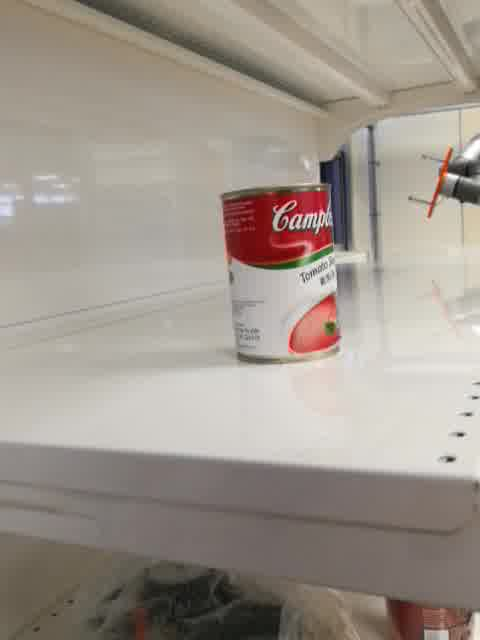tomatosoup: (220, 183, 345, 367)
